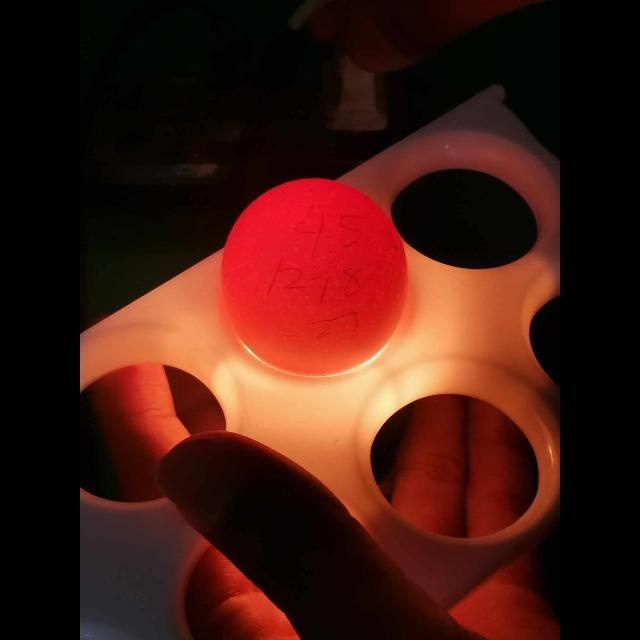Infertile: (223, 176, 411, 380)
